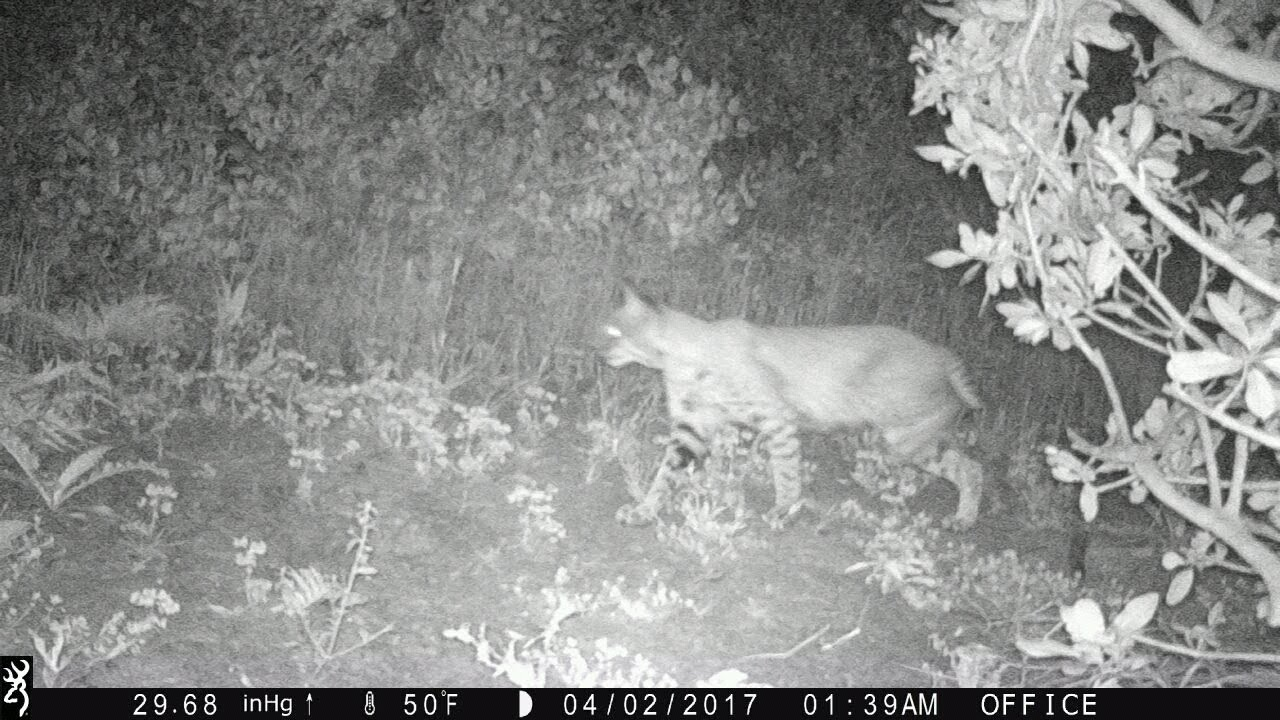bobcat: (600, 256, 1017, 512)
